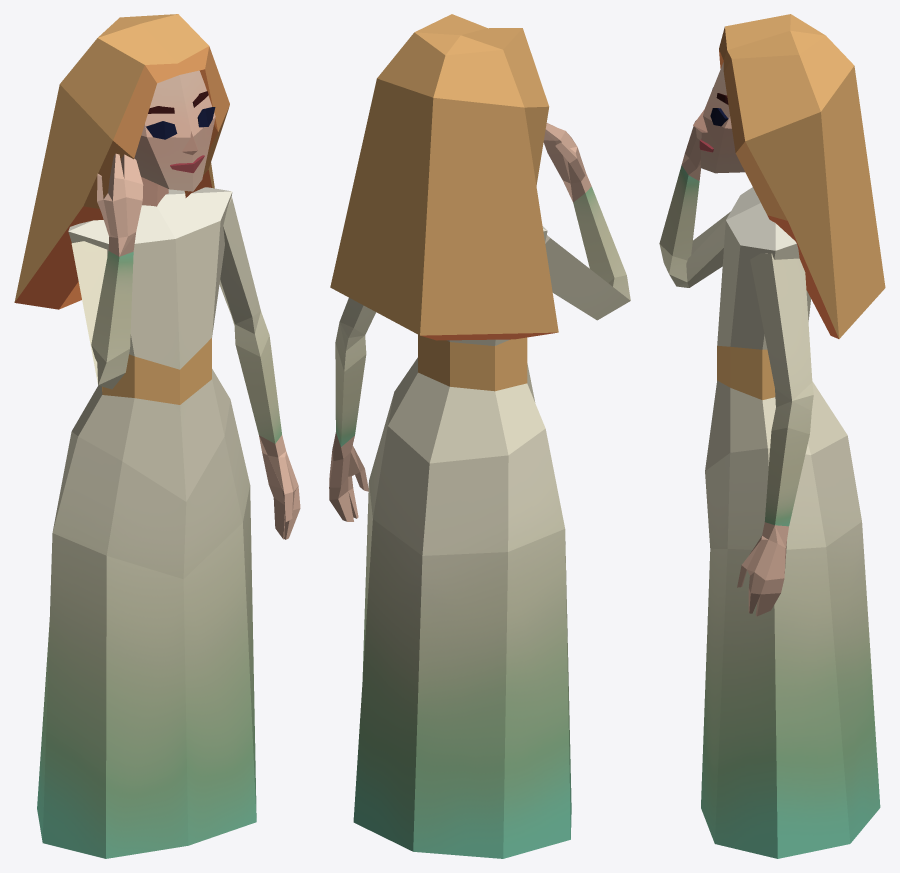
The model's file is guest_fem_3_-_medieval_fantasy_challenge.glb.
3 views of the same model, side by side, from view 1: azimuth 30°, elevation 25°; view 2: azimuth 150°, elevation 25°; view 3: azimuth 270°, elevation 25° (orthographic).
Visible parts, largest first — view 1: Object_2; view 2: Object_2; view 3: Object_2.
Part boxes in pixels (box(x1,y1,x2,y2)): Object_2: box(14, 14, 300, 858); Object_2: box(329, 14, 630, 858); Object_2: box(659, 14, 885, 858).
Size of the model in its own units: 0.5416 by 1.59 by 0.4192.
1 material, 1 textured.
